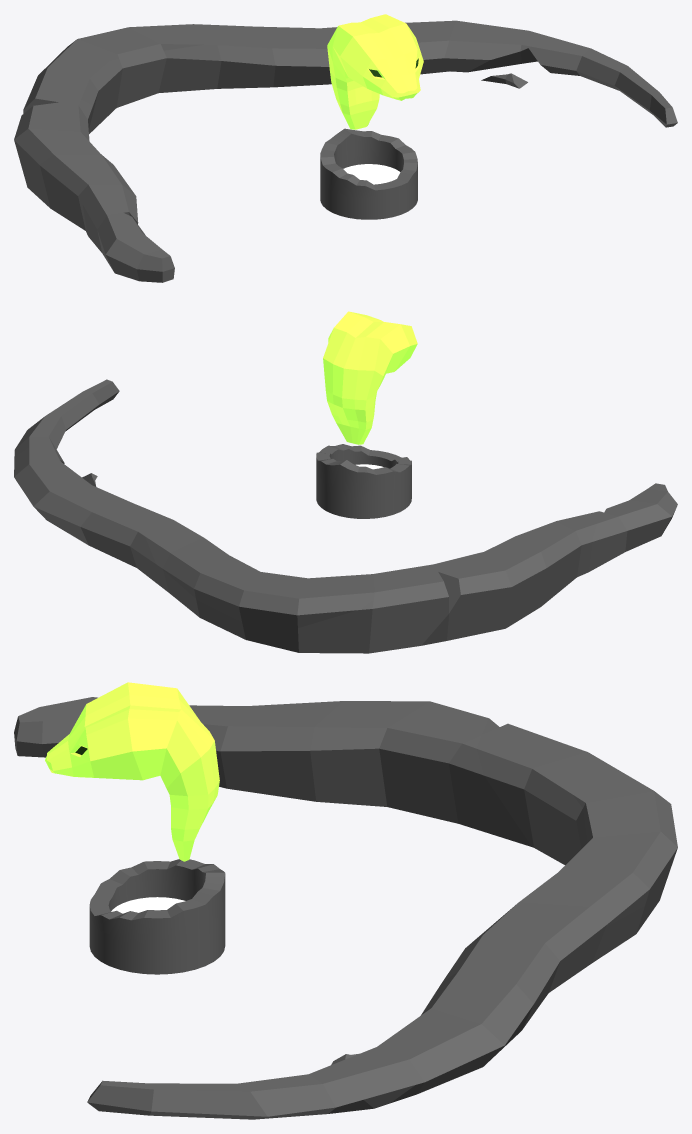
Rendered from Temple_Snake (1).fbx.
3 views of the same model, one above another, from view 1: azimuth 30°, elevation 25°; view 2: azimuth 150°, elevation 25°; view 3: azimuth 270°, elevation 25° (orthographic). The views are drawn at different scales.
Visible parts, largest first — view 1: Circle, Cube, Cylinder; view 2: Circle, Cube, Cylinder; view 3: Circle, Cube, Cylinder.
Boxes of the visible parts, <box> form: Circle: <box>14,20,677,282</box>; Cube: <box>327,14,423,129</box>; Cylinder: <box>320,128,417,219</box>; Circle: <box>14,379,677,653</box>; Cube: <box>323,311,417,444</box>; Cylinder: <box>316,444,411,518</box>; Circle: <box>14,697,677,1119</box>; Cube: <box>45,682,219,861</box>; Cylinder: <box>89,859,225,974</box>.
Size of the model in its own units: 1399 by 404 by 978.
